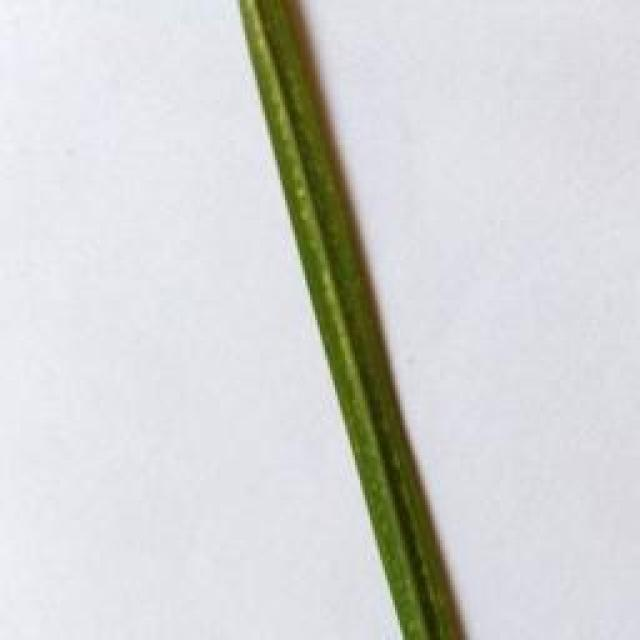Healthy-Plant: (222, 0, 472, 640)
